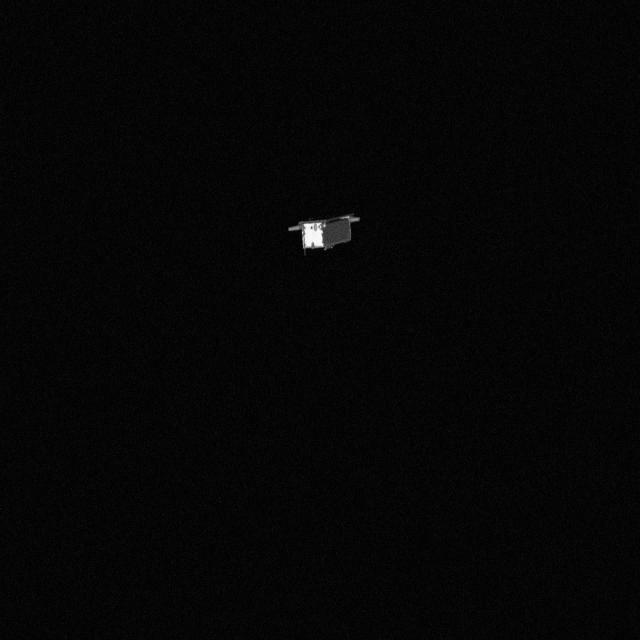medium_debris: (294, 218, 384, 256)
